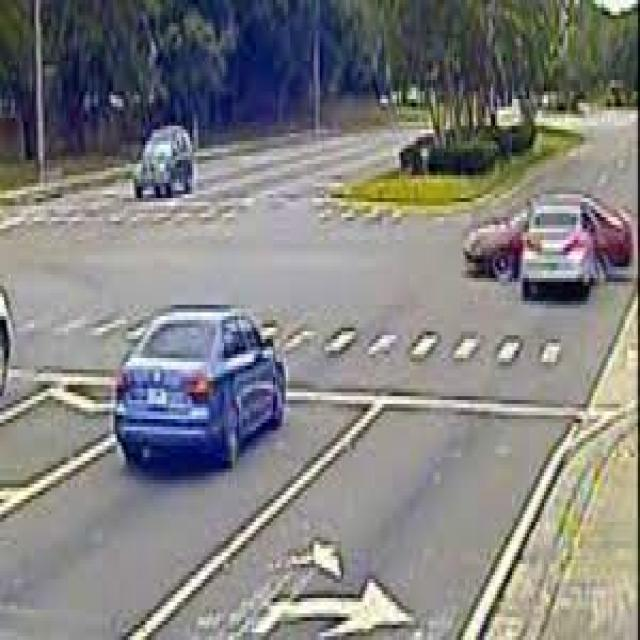accident: (444, 160, 638, 324)
